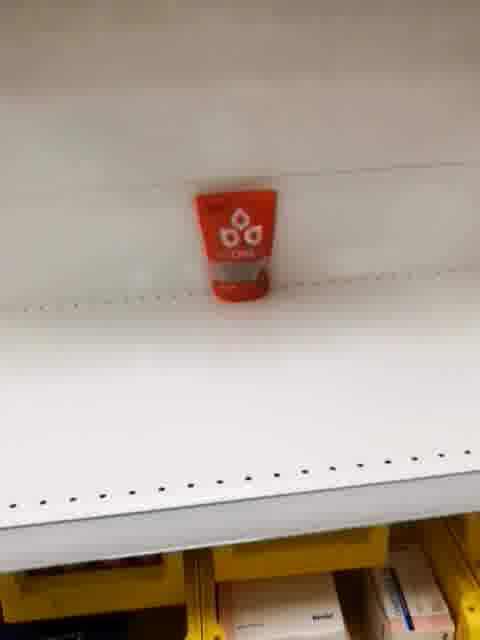whitechia: (192, 183, 282, 309)
